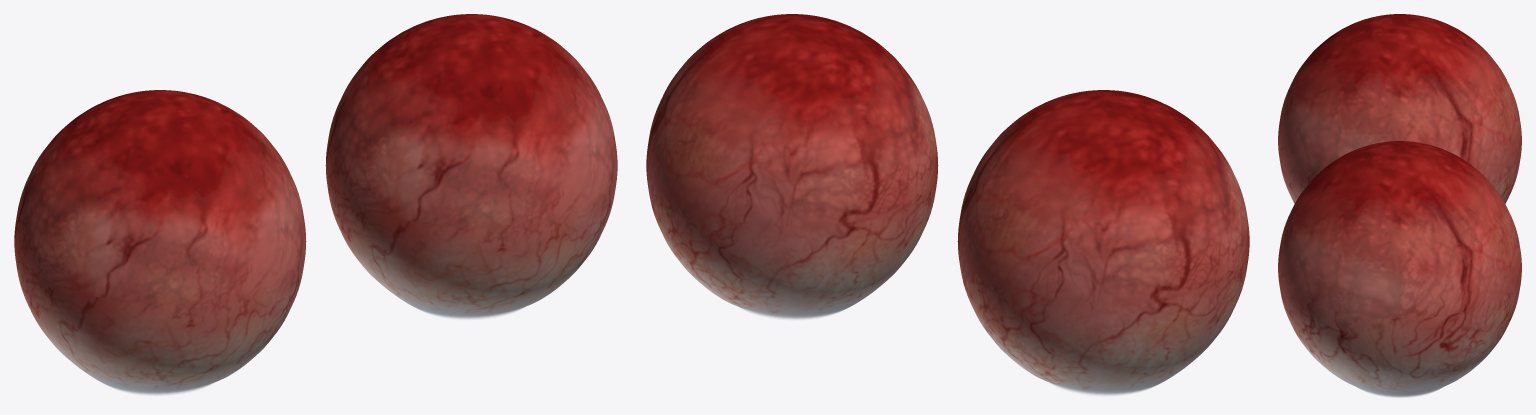
File: eye-with-glaucoma.glb
The picture shows the model from 3 angles, left to right: view 1: azimuth 30°, elevation 25°; view 2: azimuth 150°, elevation 25°; view 3: azimuth 270°, elevation 25°; orthographic projection. The views are drawn at different scales.
Parts seen in each view (by area): view 1: MeshHealthySclera, MeshSclera; view 2: MeshSclera, MeshHealthySclera; view 3: MeshHealthySclera, MeshSclera.
Boxes of the visible parts, x1=… form: MeshHealthySclera: x1=325, y1=14, x2=617, y2=319; MeshSclera: x1=14, y1=90, x2=306, y2=395; MeshSclera: x1=957, y1=90, x2=1249, y2=395; MeshHealthySclera: x1=646, y1=14, x2=938, y2=319; MeshHealthySclera: x1=1278, y1=141, x2=1521, y2=397; MeshSclera: x1=1278, y1=14, x2=1521, y2=203.
Size of the model in its own units: 511 by 251 by 229.
Materials: 3 (3 with a texture image).
